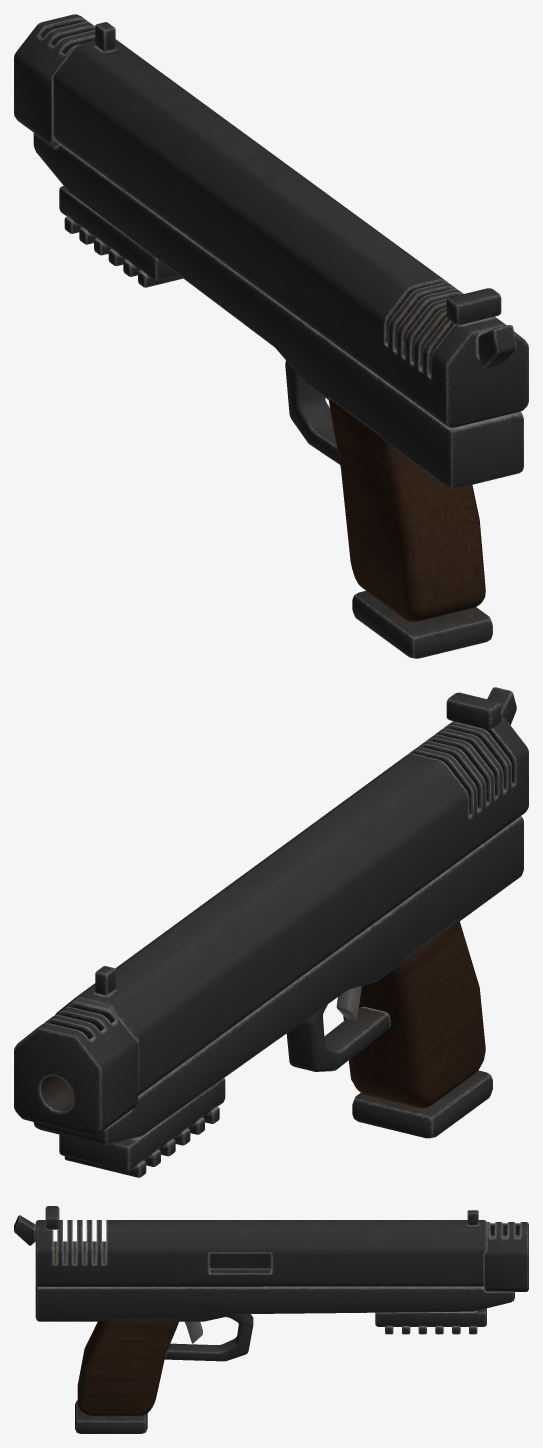
The model's file is footman_auto_pistol.glb.
3 views of the same model, one above another, from view 1: azimuth 30°, elevation 25°; view 2: azimuth 150°, elevation 25°; view 3: azimuth 270°, elevation 25° (orthographic). The views are drawn at different scales.
Parts seen in each view (by area): view 1: footman_auto_pistol; view 2: footman_auto_pistol; view 3: footman_auto_pistol.
Part boxes in pixels (box(x1,y1,x2,y2)): footman_auto_pistol: box(14, 14, 528, 658); footman_auto_pistol: box(14, 687, 528, 1177); footman_auto_pistol: box(14, 1206, 528, 1433).
Bounding box in the file's own units: 0.042 × 0.168 × 0.3686.
1 material, 1 textured.
